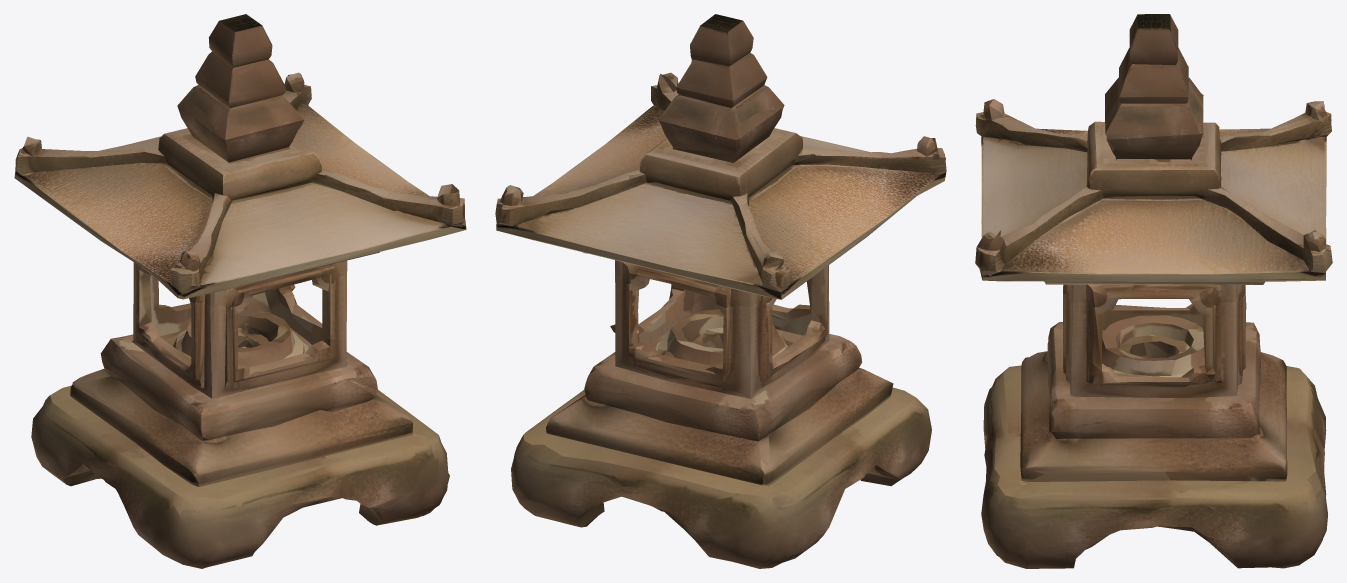
The model's file is aggressive.glb.
3 views of the same model, side by side, from view 1: azimuth 30°, elevation 25°; view 2: azimuth 150°, elevation 25°; view 3: azimuth 270°, elevation 25° (orthographic). The views are drawn at different scales.
Visible parts, largest first — view 1: triposg_painted_00001__Retopo; view 2: triposg_painted_00001__Retopo; view 3: triposg_painted_00001__Retopo.
Part boxes in pixels (<box>): triposg_painted_00001__Retopo: <box>14,14,466,568</box>; triposg_painted_00001__Retopo: <box>495,14,946,568</box>; triposg_painted_00001__Retopo: <box>975,14,1332,568</box>.
Size of the model in its own units: 1.23 by 1.87 by 1.25.
Materials: 1 (1 with a texture image).
